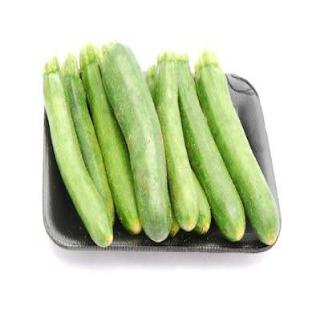Zucchini: (196, 52, 279, 244), (101, 44, 171, 242), (44, 58, 113, 247), (178, 56, 245, 241), (80, 45, 141, 233), (62, 54, 114, 224), (155, 53, 198, 231), (193, 173, 210, 235), (146, 65, 157, 103), (171, 213, 180, 237)
